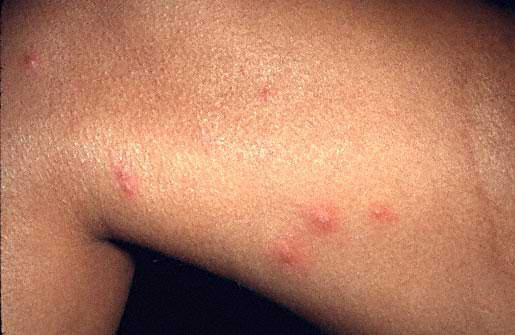Fleas: (102, 162, 144, 201), (270, 236, 308, 273), (305, 208, 340, 233), (367, 204, 396, 225), (21, 53, 41, 76)
